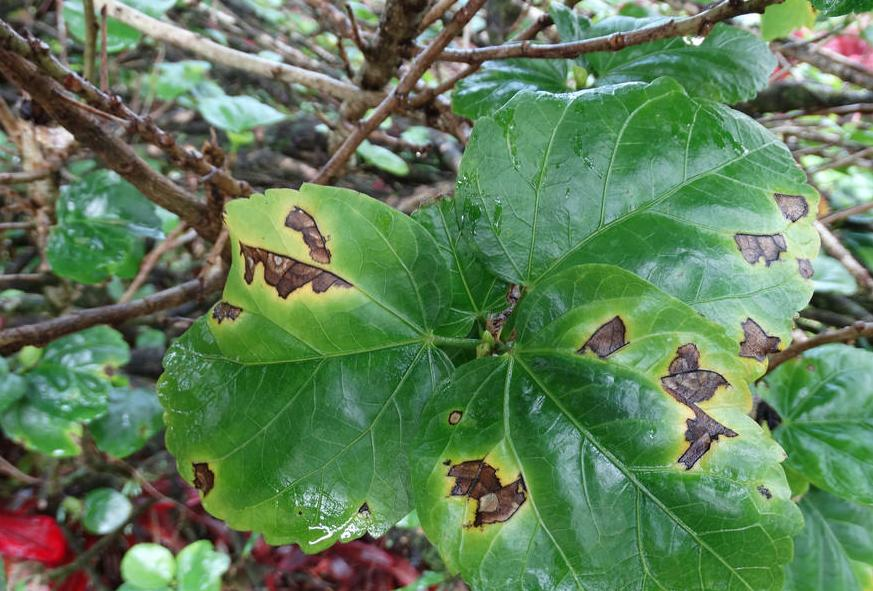Tomato Septoria leaf spot: (409, 280, 806, 591), (146, 180, 451, 541)
